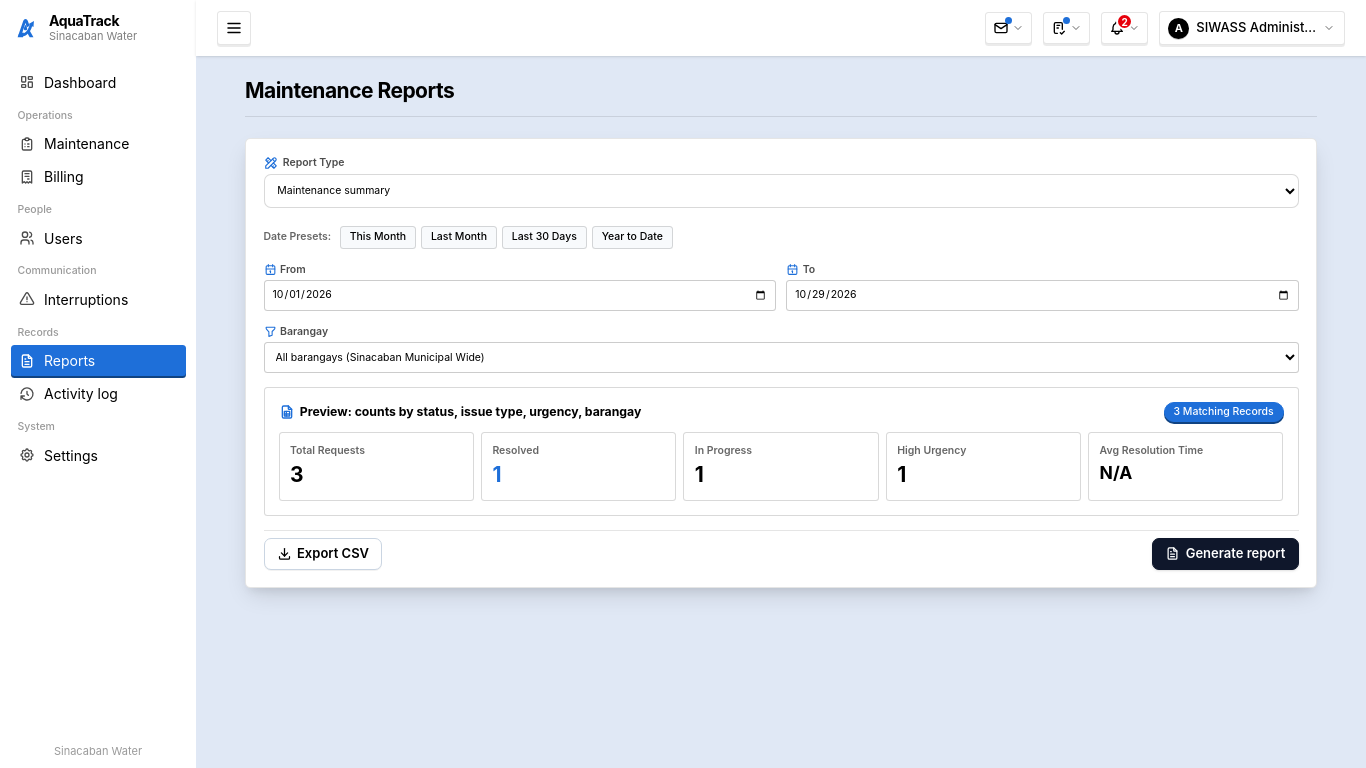
it: AdminReportsView (Section 10 & Revised PDF Output Workflow) › generates Landscape PDF for Type 2: Maintenance Request Log
Select "Maintenance request log" in the dropdown labelled "Report Type". click: (781, 191)
box: [264,174,1298,208]
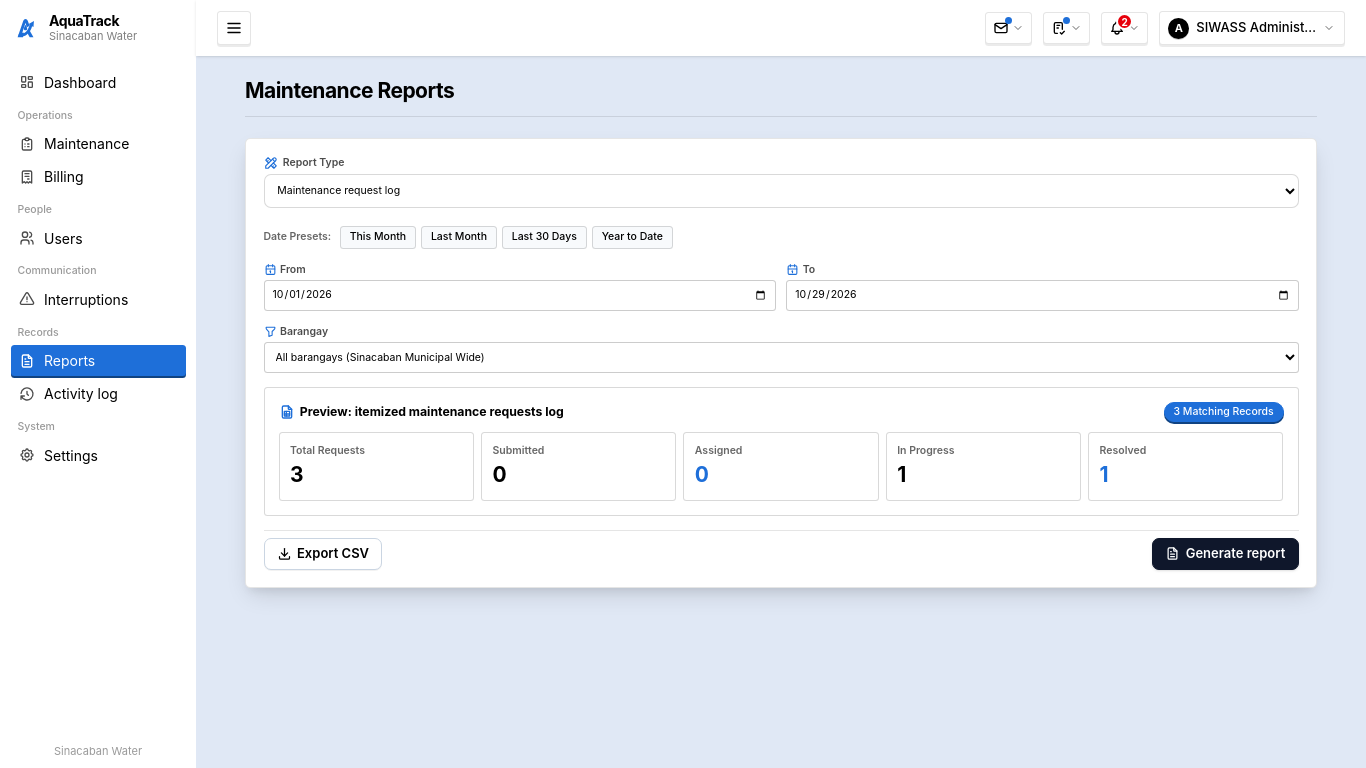
Click the button "Generate report". click: (1225, 554)
box: [1152,538,1298,570]
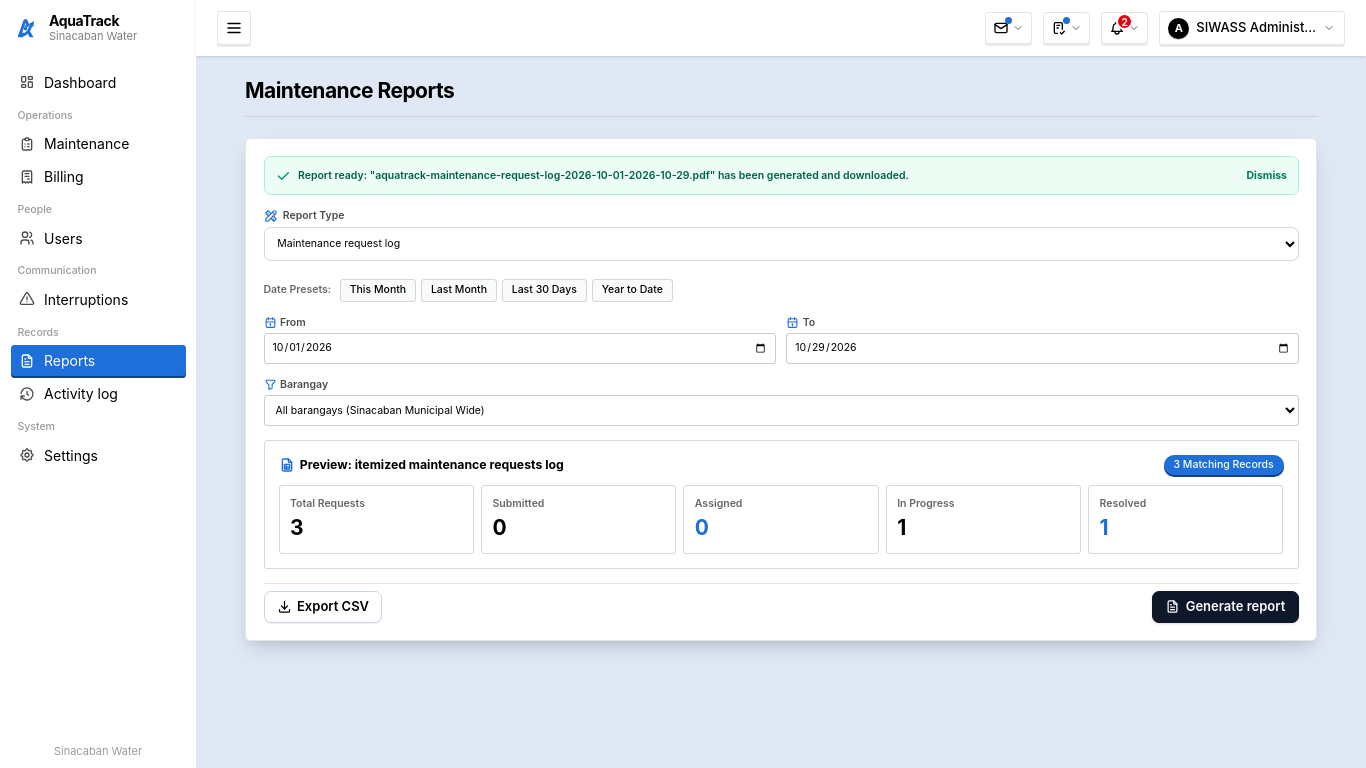
expect the text "Report ready" is shown: met, box [298,168,909,182]
